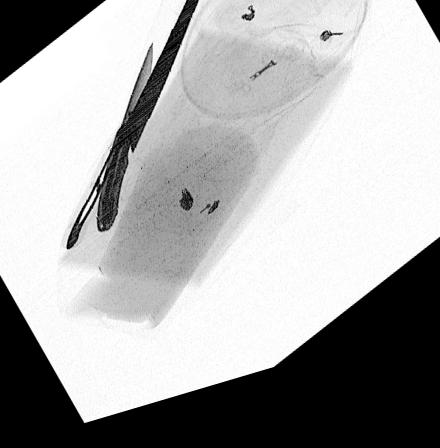Knife: (65, 0, 203, 254), (96, 48, 154, 238)
